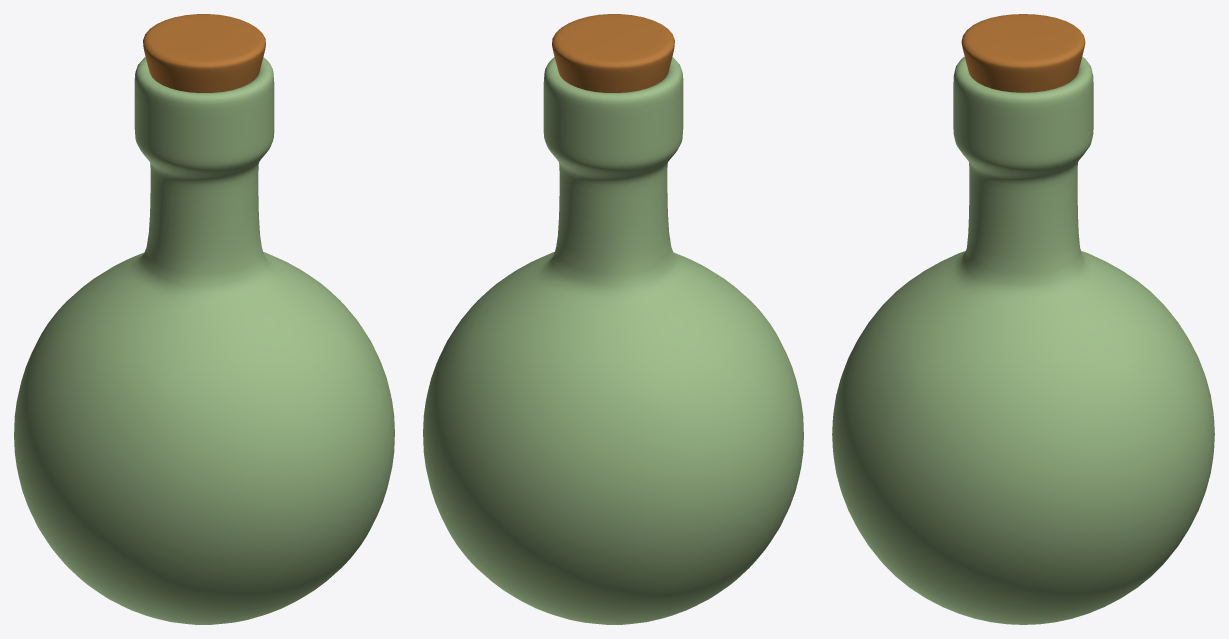
Rendered from bottle.fbx.
3 renders of one model, left to right at view 1: azimuth 30°, elevation 25°; view 2: azimuth 150°, elevation 25°; view 3: azimuth 270°, elevation 25°, orthographic.
Parts seen in each view (by area): view 1: bottle, cork; view 2: bottle, cork; view 3: bottle, cork.
Part boxes in pixels (<box>): bottle: <box>14,57,394,624</box>; cork: <box>143,14,265,92</box>; bottle: <box>423,57,803,624</box>; cork: <box>552,14,674,92</box>; bottle: <box>832,57,1214,624</box>; cork: <box>961,14,1085,92</box>.
Bounding box in the file's own units: 192 × 315 × 192.
